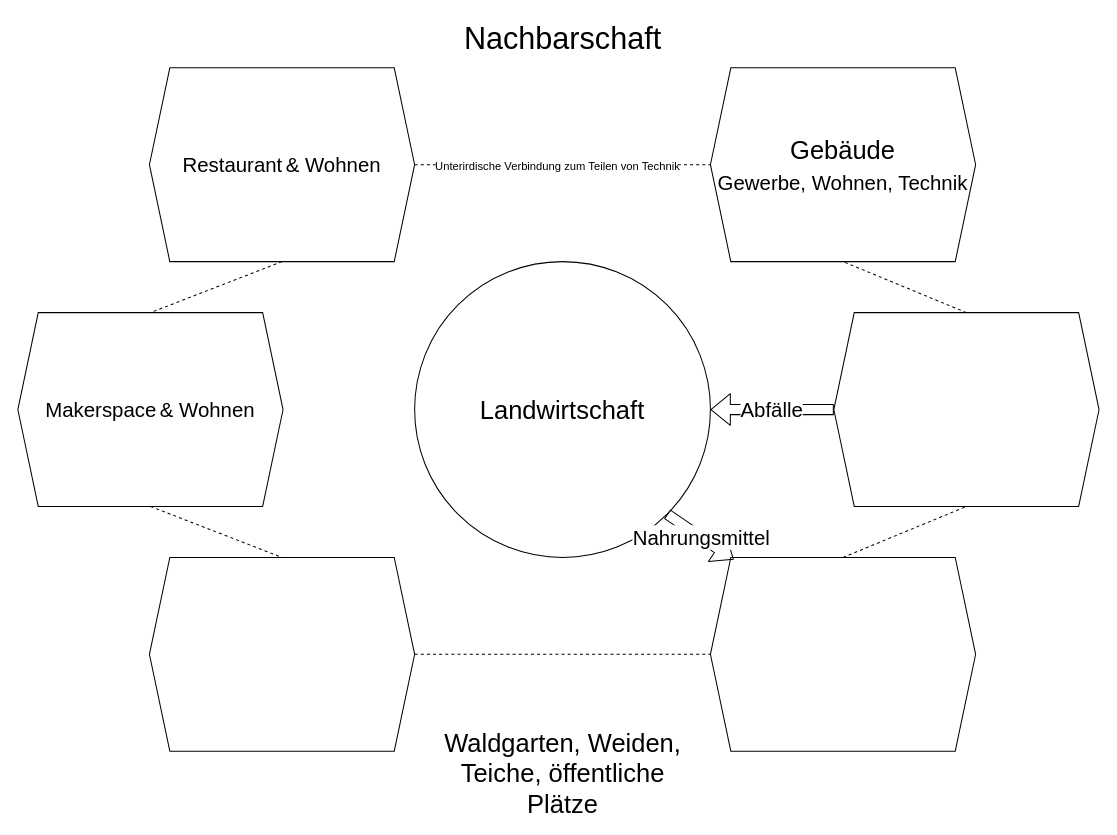
Some shapes in this 1117 by 835 pixel diagram are drawn without their labels. The centre of each missing label's shape, as x and y in pixels:
"Büros & Wohnen" goes at (x=842, y=653).
"Forschung & Wohnen" goes at (x=281, y=653).
